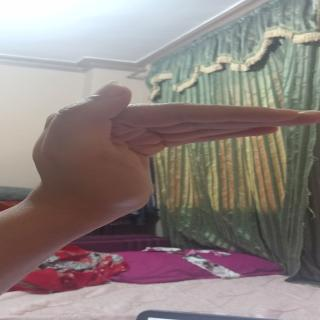KHAA: (26, 70, 320, 213)
